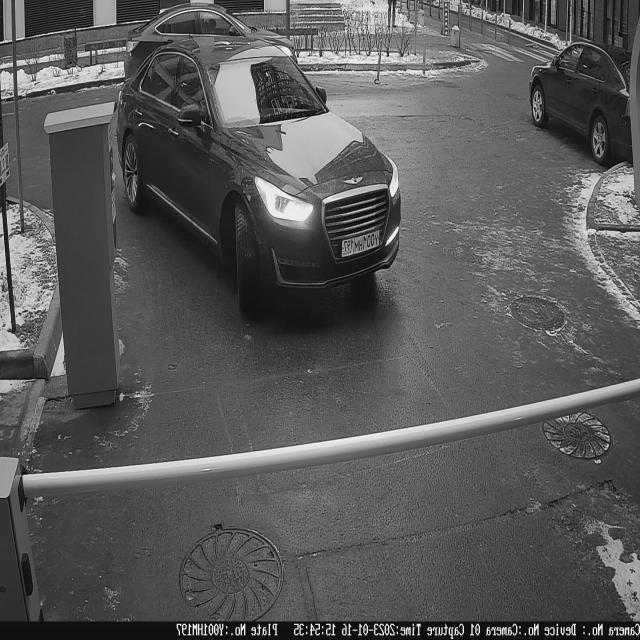car-plate-numbers: (342, 226, 384, 265)
